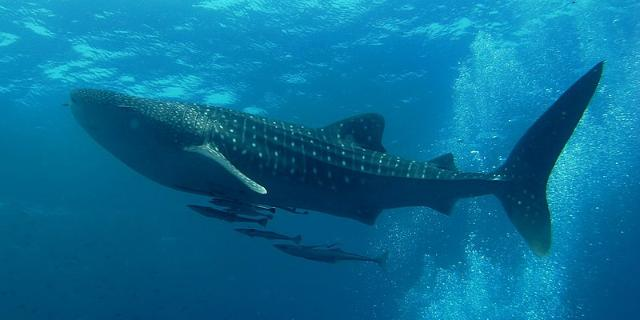Sirip Anal: (420, 145, 468, 229)
Sirip Dada: (178, 125, 270, 202)
Sirip Ekor: (495, 55, 615, 265)
Sirip Perut: (341, 197, 397, 233)
Sirip Punggung: (315, 110, 393, 162)
